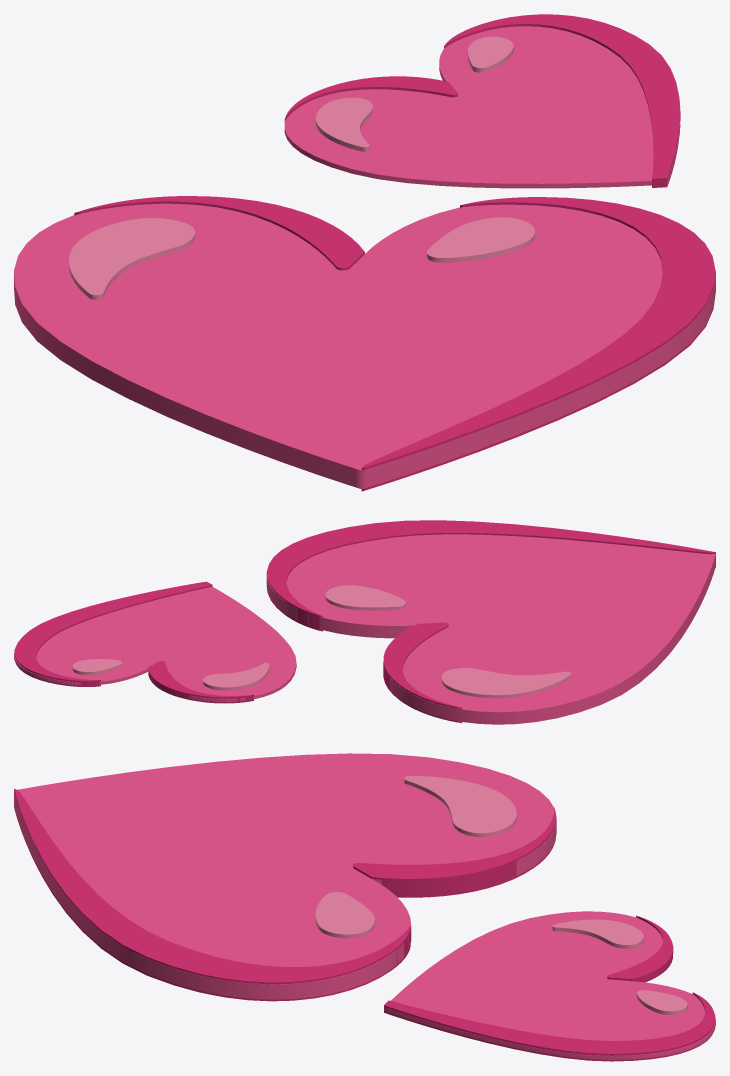
The model's file is emoji_u1f495.glb.
3 views of the same model, one above another, from view 1: azimuth 30°, elevation 25°; view 2: azimuth 150°, elevation 25°; view 3: azimuth 270°, elevation 25° (orthographic). The views are drawn at different scales.
Parts seen in each view (by area): view 1: emoji_u1f495; view 2: emoji_u1f495; view 3: emoji_u1f495.
Part boxes in pixels (x1,y1,x2,y2): emoji_u1f495: [14, 14, 715, 491]; emoji_u1f495: [14, 520, 715, 724]; emoji_u1f495: [14, 753, 715, 1061].
Size of the model in its own units: 0.0339 by 0.0012 by 0.0338.
